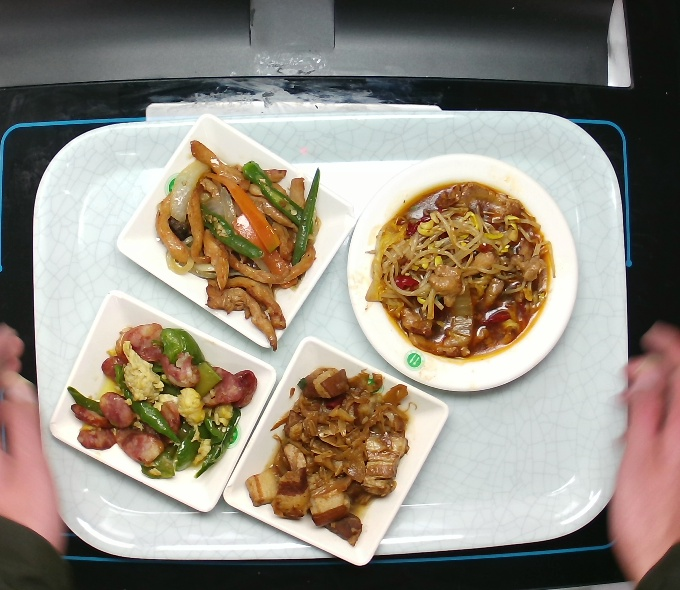wcq-HongShaoRou: (240, 357, 421, 554)
wcq-QingJiaoJiDanChaoDaChang: (62, 316, 258, 487)
wcq-QingJiaoRouSi: (151, 134, 327, 357)
wcq-ShuiZhuRouPian: (359, 173, 565, 371)
